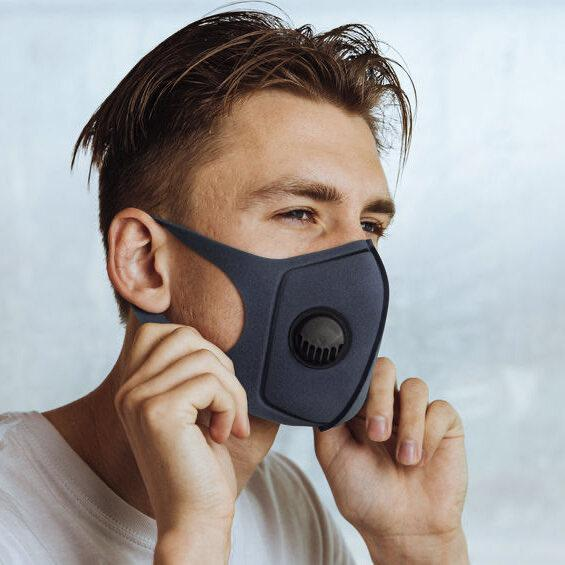with_mask: (59, 18, 433, 446)
